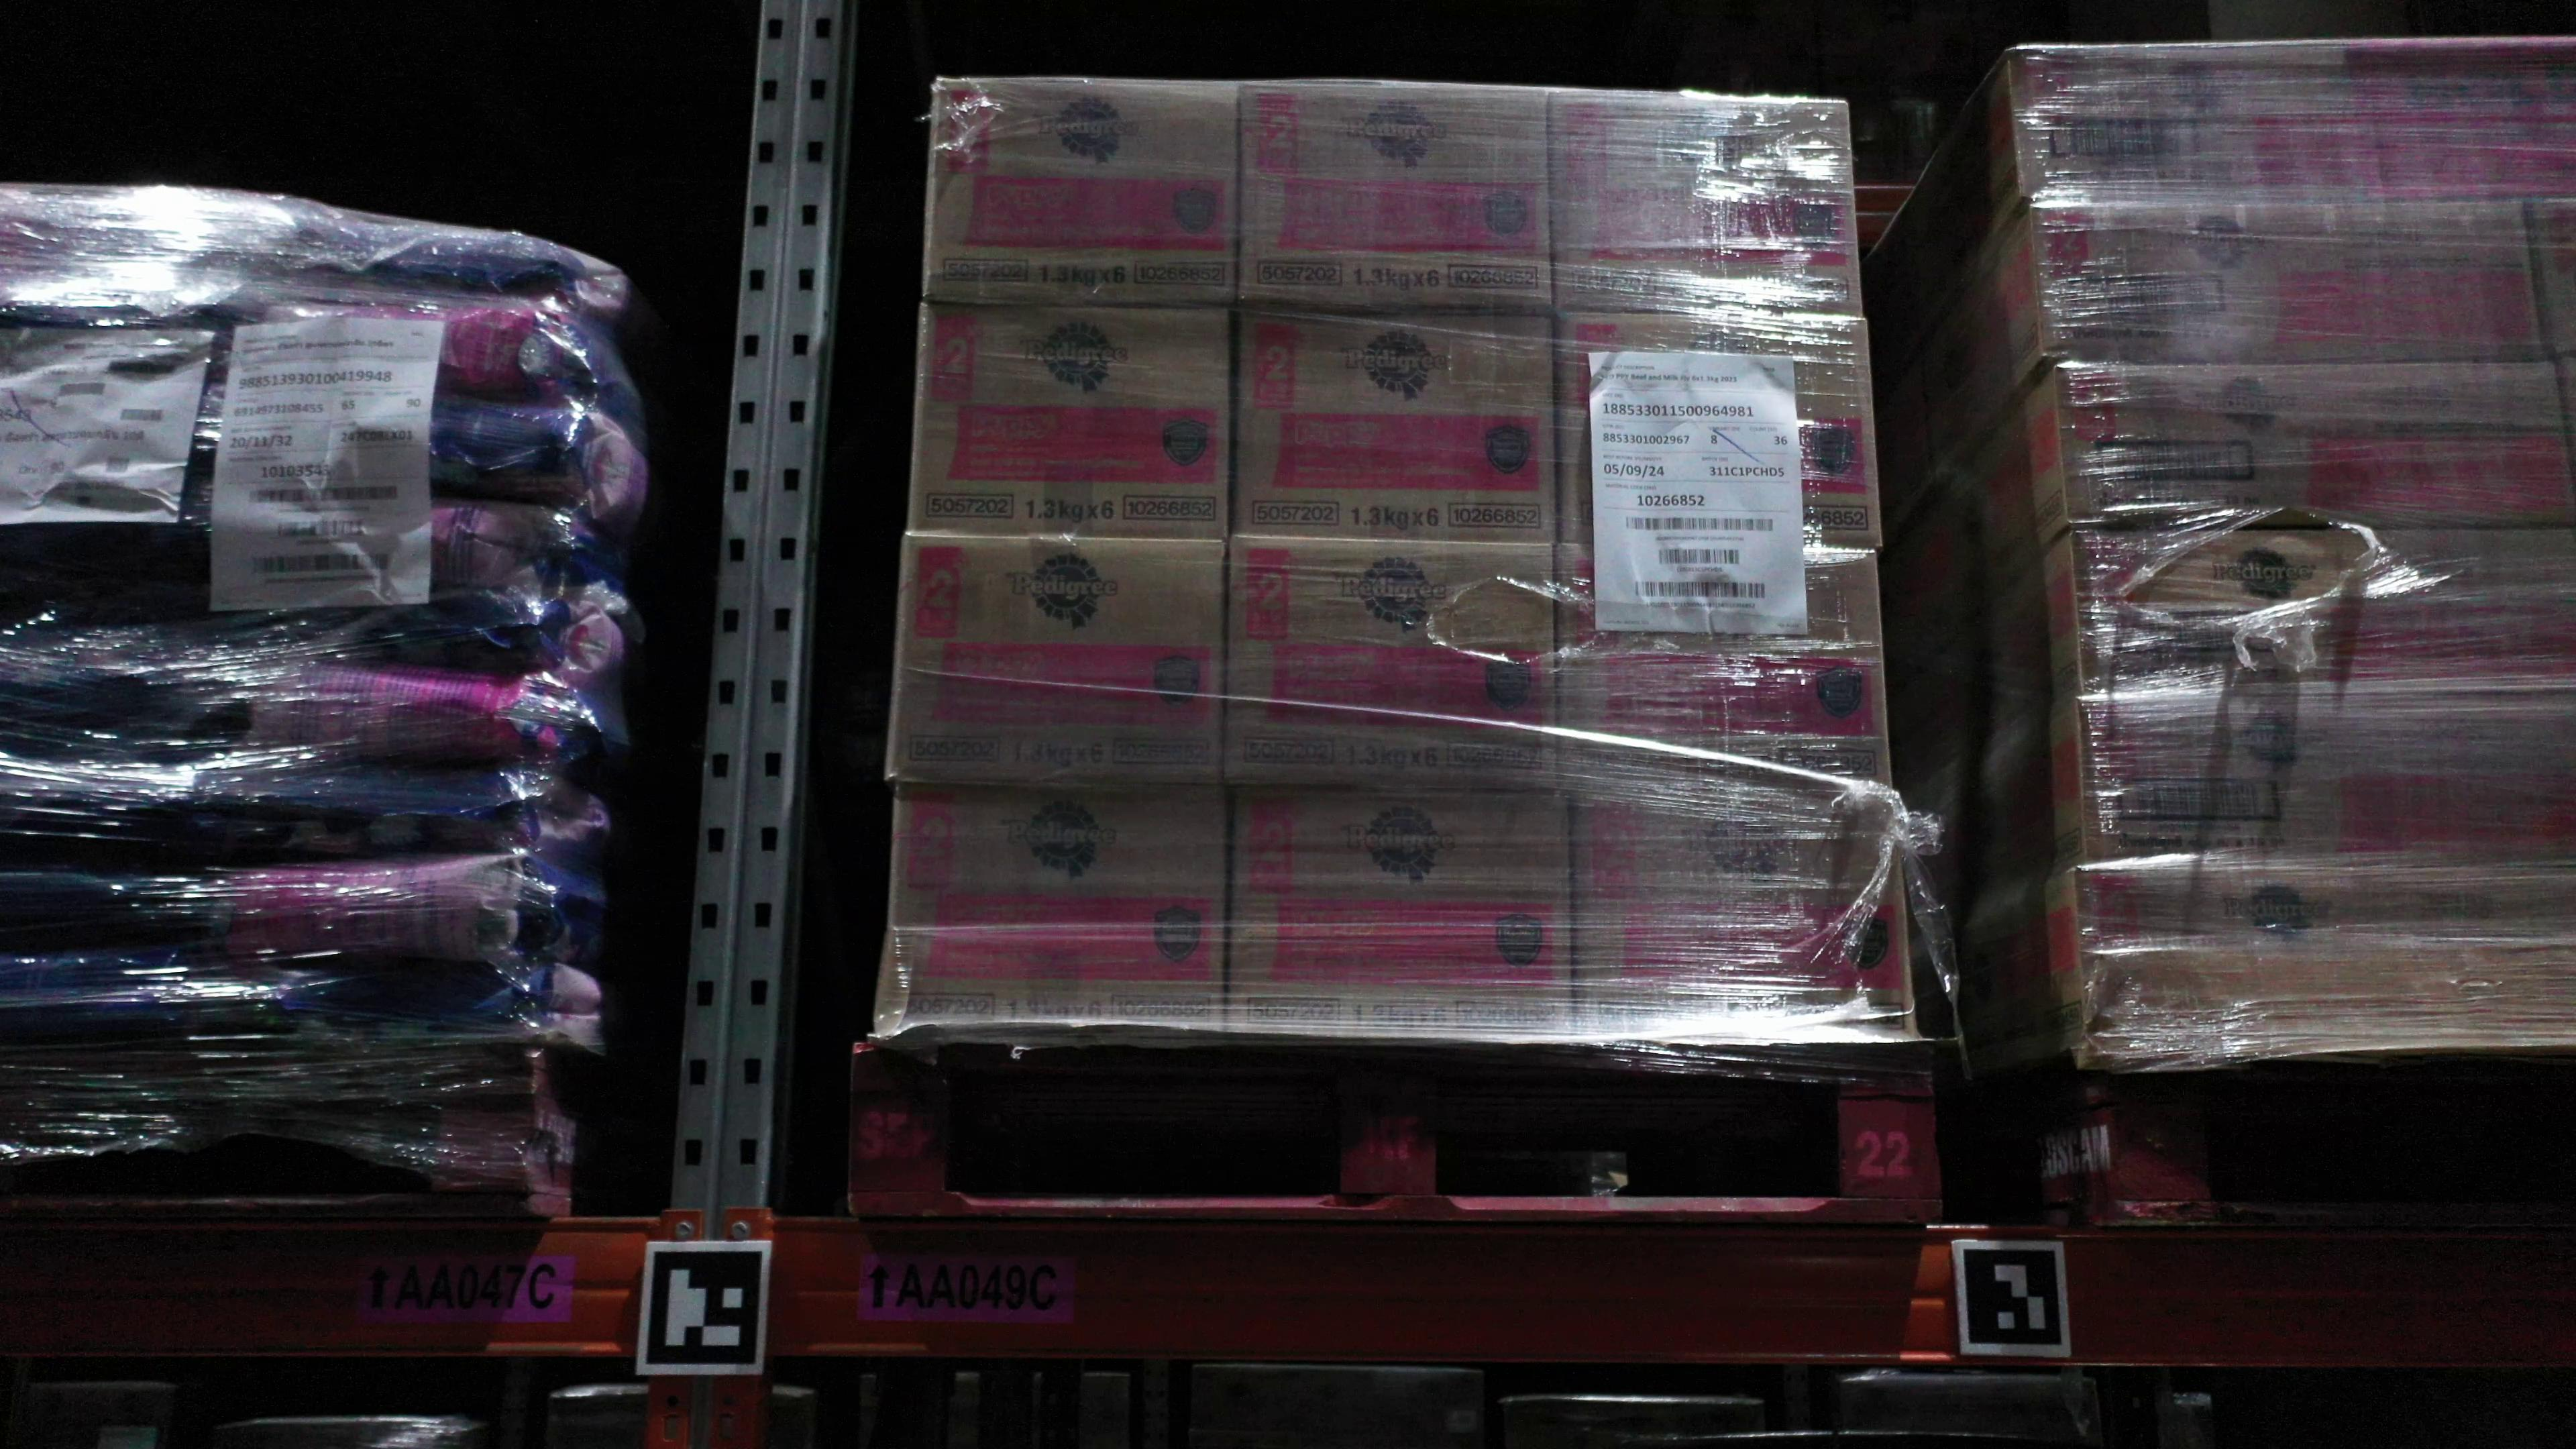-: (2075, 856, 2576, 1051), (1226, 782, 1576, 1049), (872, 778, 1230, 1037), (883, 531, 1231, 789), (2066, 525, 2576, 701), (2006, 37, 2519, 211), (1575, 789, 1918, 1047), (2077, 686, 2576, 863), (1223, 531, 1557, 794), (2051, 359, 2574, 525), (1553, 541, 1891, 796), (2028, 195, 2544, 359), (1553, 308, 1882, 550), (1235, 304, 1560, 543), (906, 297, 1230, 536), (922, 71, 1240, 313), (1550, 81, 1870, 320), (1238, 78, 1553, 311)
